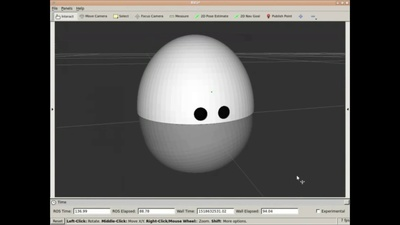mira_robot: (136, 34, 254, 173)
